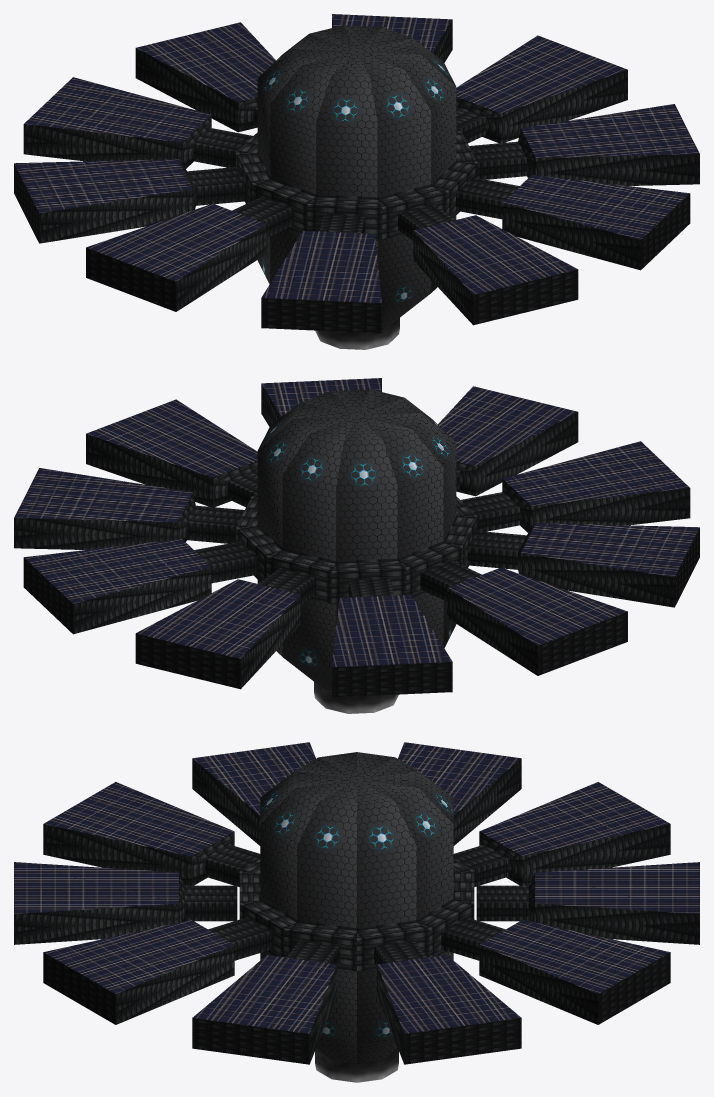
The model's file is Sputnik_camera.FBX.
3 renders of one model, top to bottom at view 1: azimuth 30°, elevation 25°; view 2: azimuth 150°, elevation 25°; view 3: azimuth 270°, elevation 25°, orthographic.
Visible parts, largest first — view 1: Cylinder009; view 2: Cylinder009; view 3: Cylinder009.
Boxes of the visible parts, box(x1,y1,x2,y2) form: Cylinder009: box(14, 14, 699, 349); Cylinder009: box(14, 378, 699, 713); Cylinder009: box(14, 742, 699, 1082).
Size of the model in its own units: 151 by 69.82 by 150.
